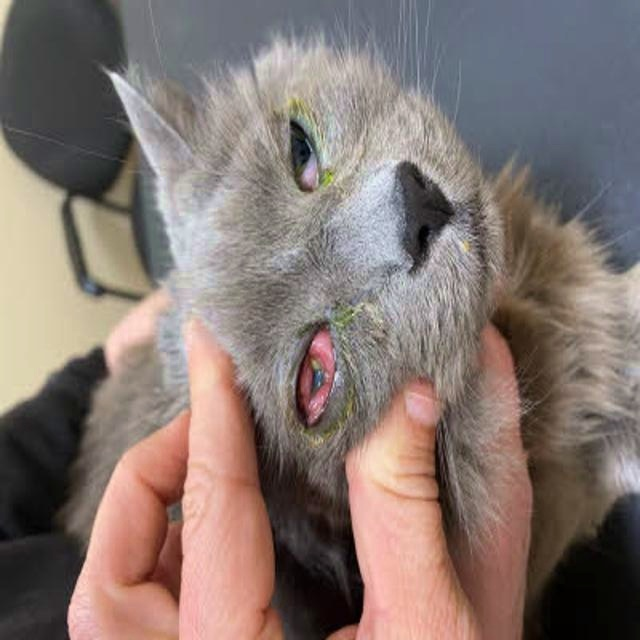eye_infection: (288, 314, 351, 428), (286, 104, 322, 192)
